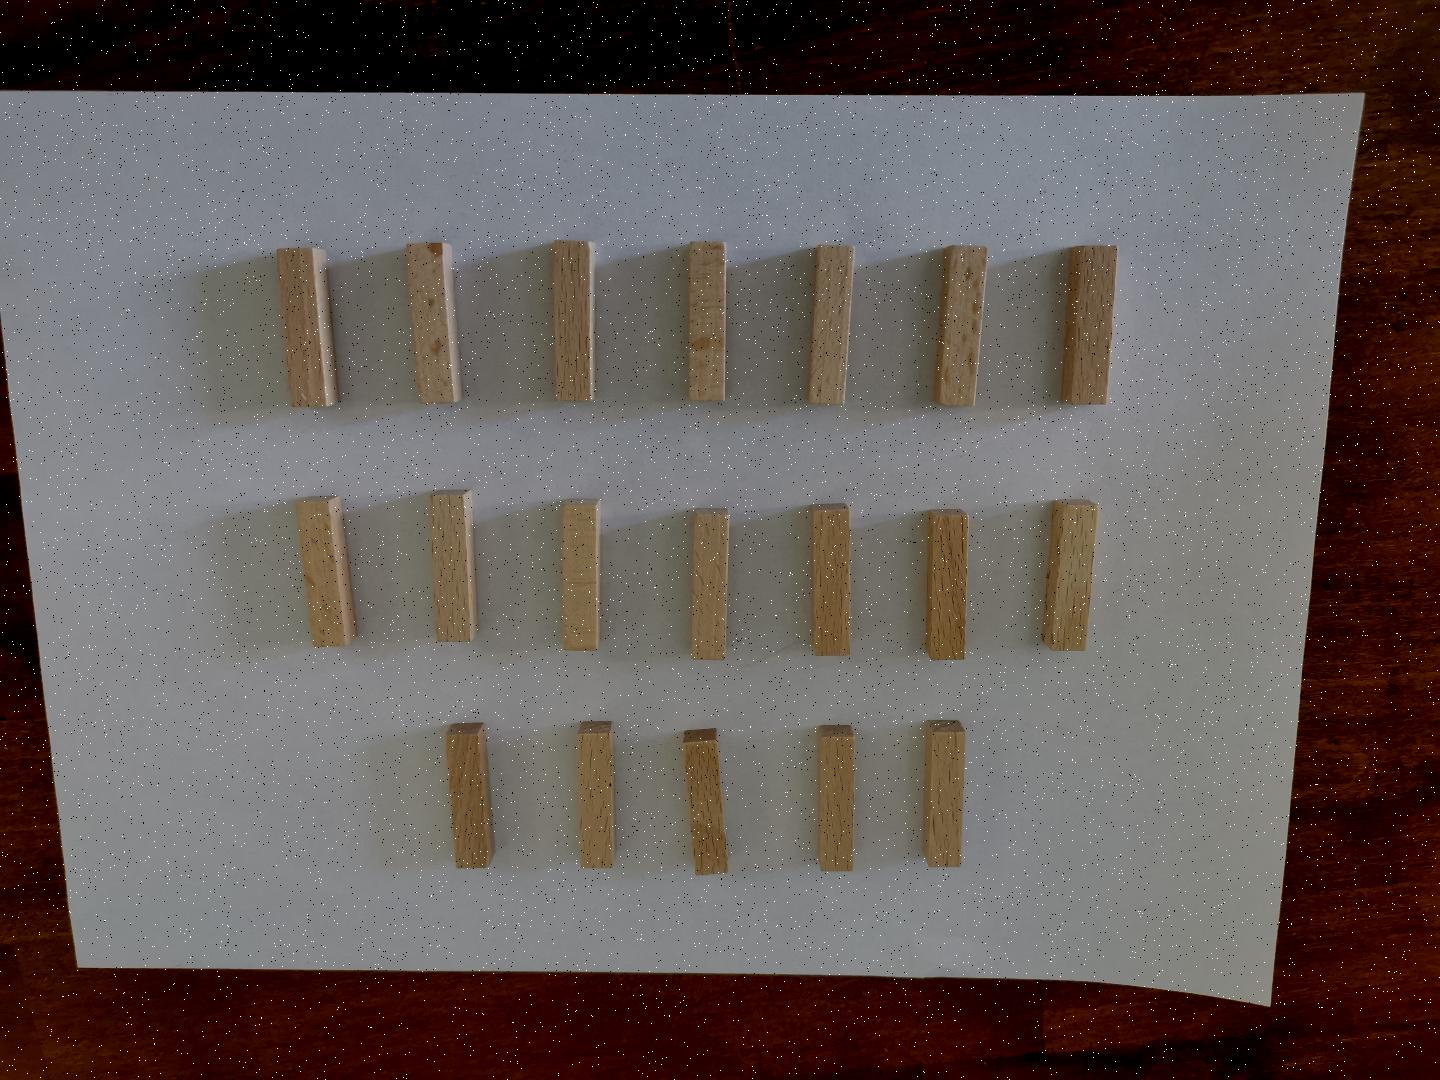jenga: (279, 247, 338, 407), (295, 498, 357, 647), (1060, 245, 1117, 405), (408, 242, 461, 405), (934, 245, 988, 405), (1043, 500, 1100, 650), (807, 245, 855, 405), (444, 723, 495, 869), (431, 489, 478, 641), (925, 509, 971, 661), (684, 728, 728, 875), (554, 239, 593, 403), (923, 720, 965, 867), (689, 242, 726, 399), (813, 504, 849, 656), (692, 509, 728, 661), (576, 723, 613, 869), (562, 500, 599, 650), (819, 726, 855, 872)
